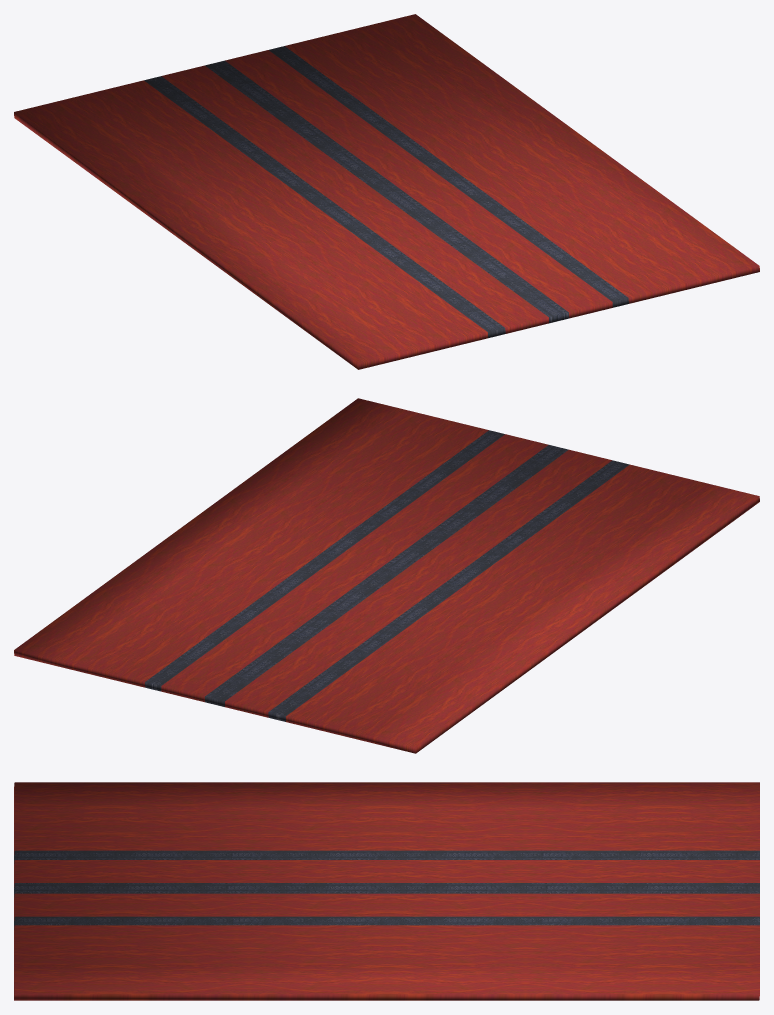
Rendered from lunar-year__RoomRoof.glb.
3 renders of one model, top to bottom at view 1: azimuth 30°, elevation 25°; view 2: azimuth 150°, elevation 25°; view 3: azimuth 270°, elevation 25°, orthographic. The views are drawn at different scales.
Parts seen in each view (by area): view 1: RoomRoof; view 2: RoomRoof; view 3: RoomRoof.
Part boxes in pixels (x1,y1,x2,y2): RoomRoof: (14, 14, 759, 369); RoomRoof: (14, 398, 759, 753); RoomRoof: (14, 782, 759, 1000).
Bounding box in the file's own units: 10.79 × 0.15 × 16.03.
Materials: 2 (2 with a texture image).
